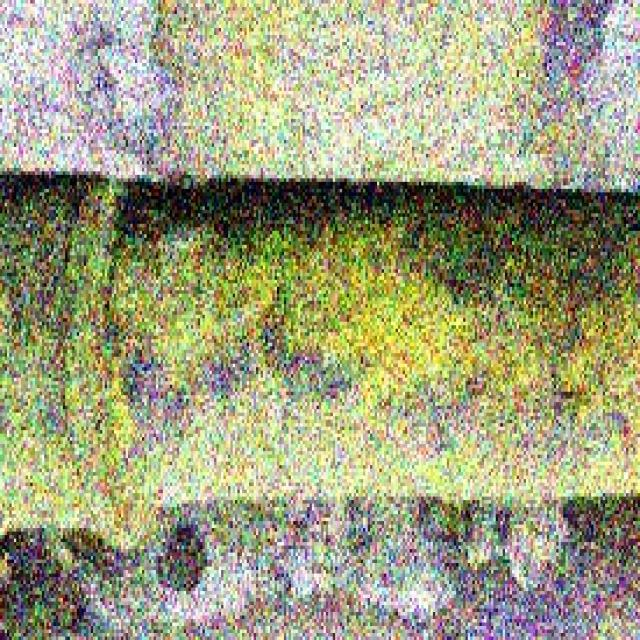rust: (2, 206, 638, 521)
